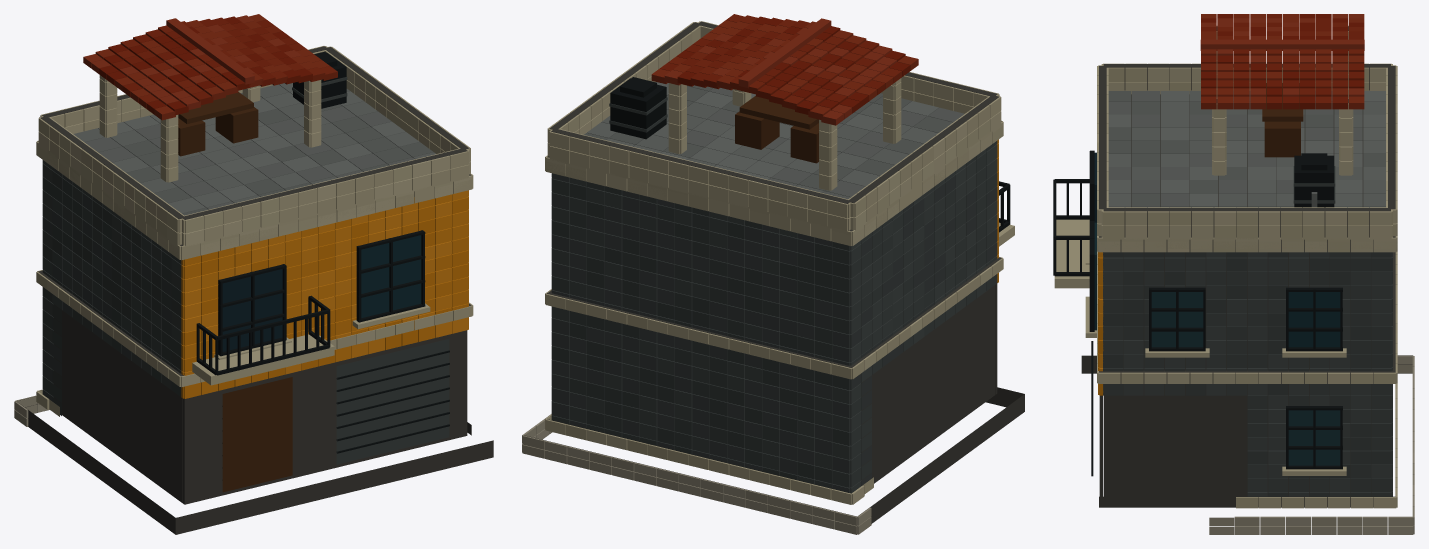
The model's file is SM_StreetFrontage_053.fbx.
3 renders of one model, left to right at view 1: azimuth 30°, elevation 25°; view 2: azimuth 150°, elevation 25°; view 3: azimuth 270°, elevation 25°, orthographic. The views are drawn at different scales.
Visible parts, largest first — view 1: SM_StreetFrontage_053; view 2: SM_StreetFrontage_053; view 3: SM_StreetFrontage_053.
Part boxes in pixels (x1=…): SM_StreetFrontage_053: x1=14, y1=14, x2=493, y2=534; SM_StreetFrontage_053: x1=522, y1=14, x2=1024, y2=534; SM_StreetFrontage_053: x1=1053, y1=14, x2=1414, y2=534.
Bounding box in the file's own units: 8 × 7.53 × 9.15.
